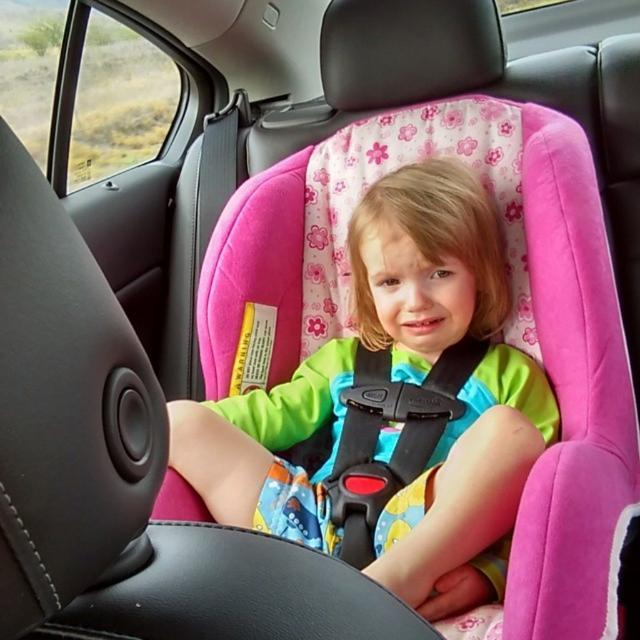SafeDriving: (422, 255, 460, 285), (372, 270, 406, 292)
Seatbelt: (197, 104, 247, 398)
